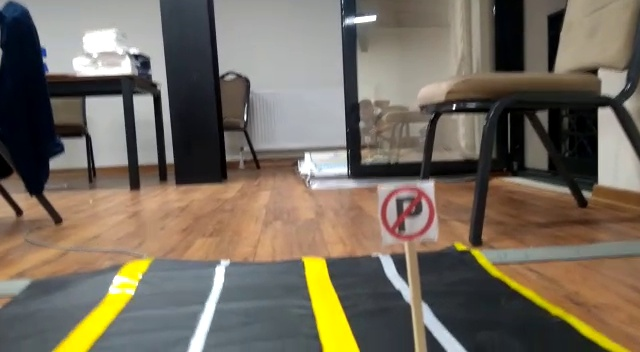park_yapilmaz: (377, 184, 436, 242)
